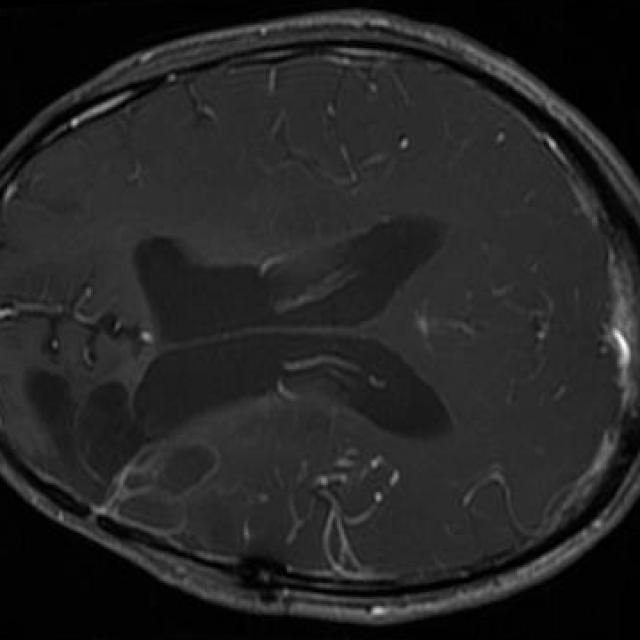glioma: (25, 367, 219, 533)
